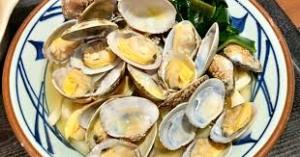asari: (1, 2, 296, 157)
